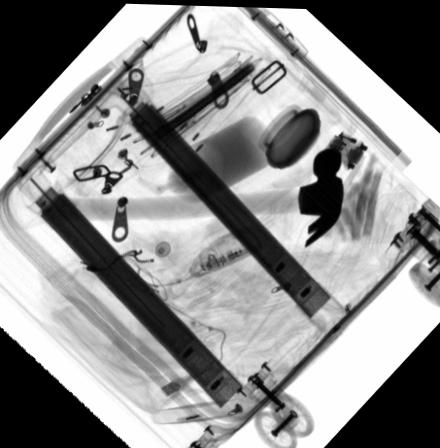Hammer: (45, 145, 345, 246)
